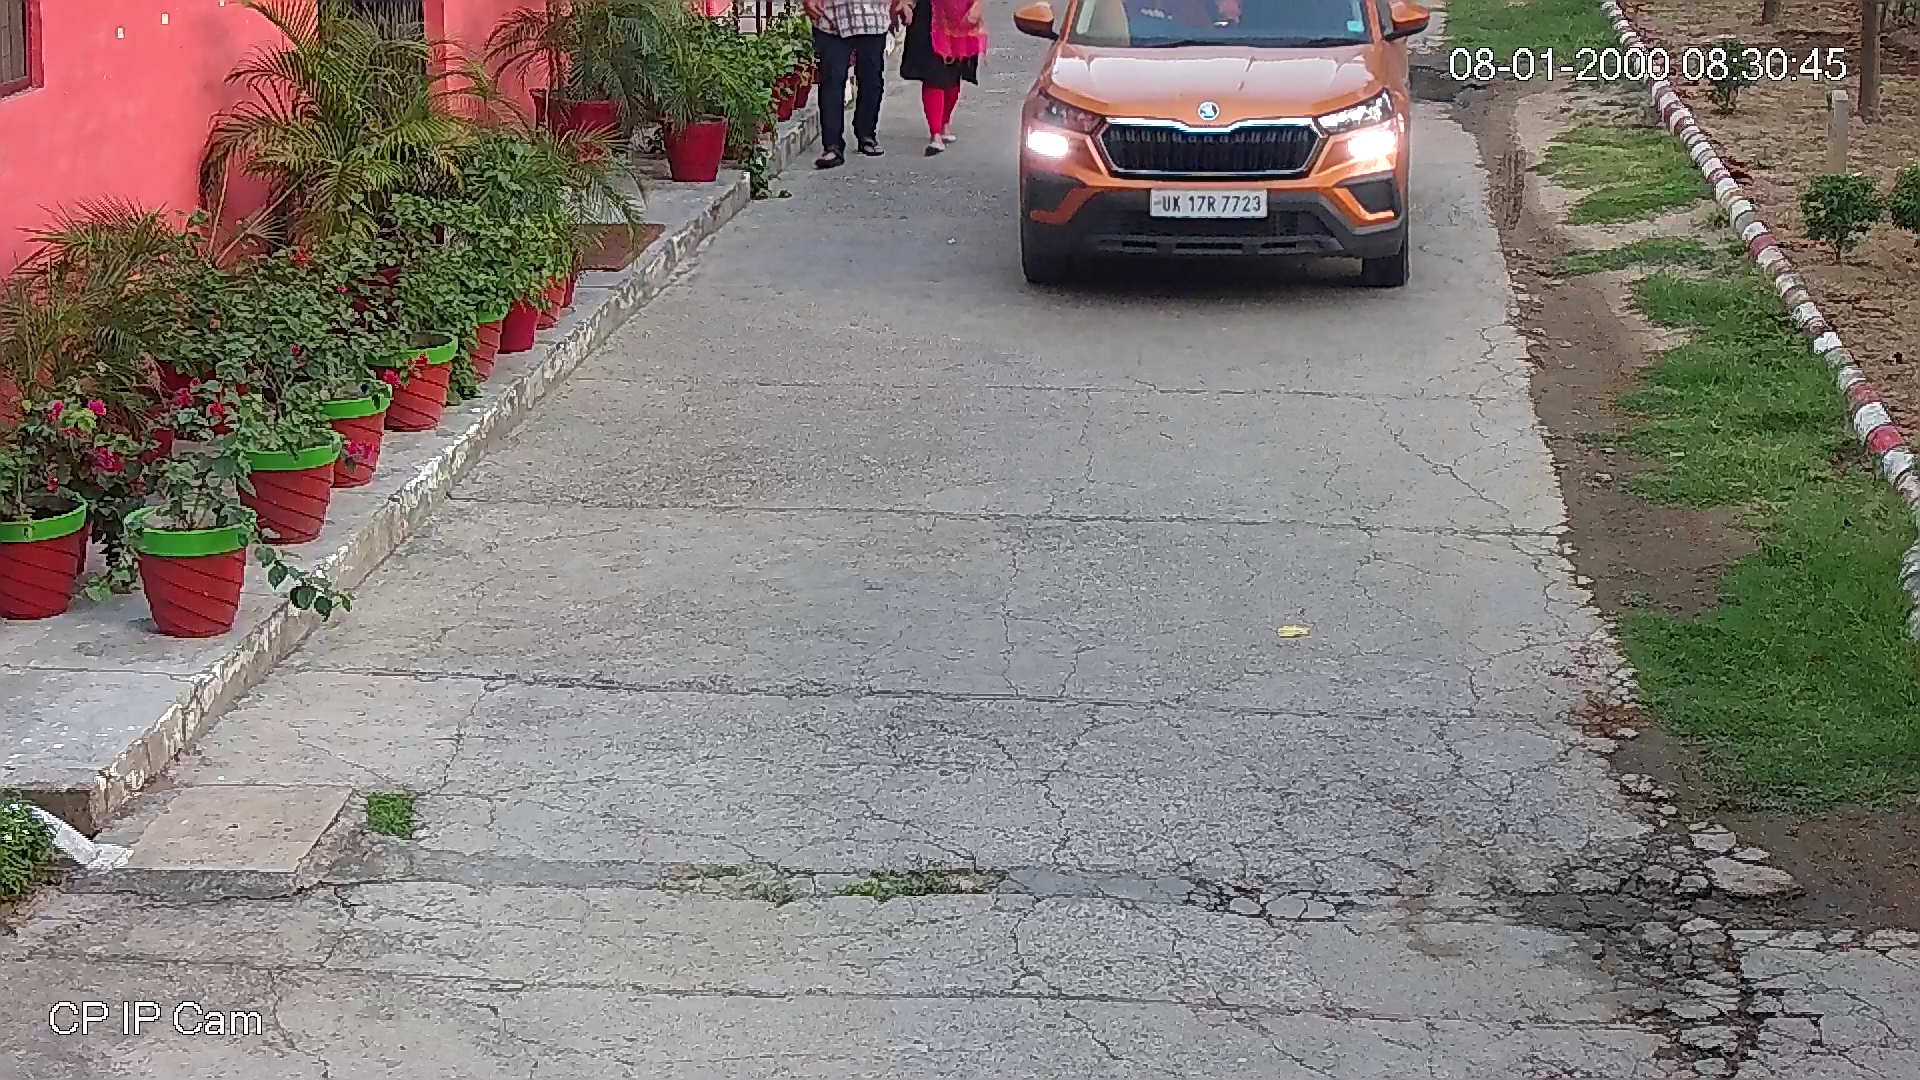plate: (1147, 185, 1267, 216)
